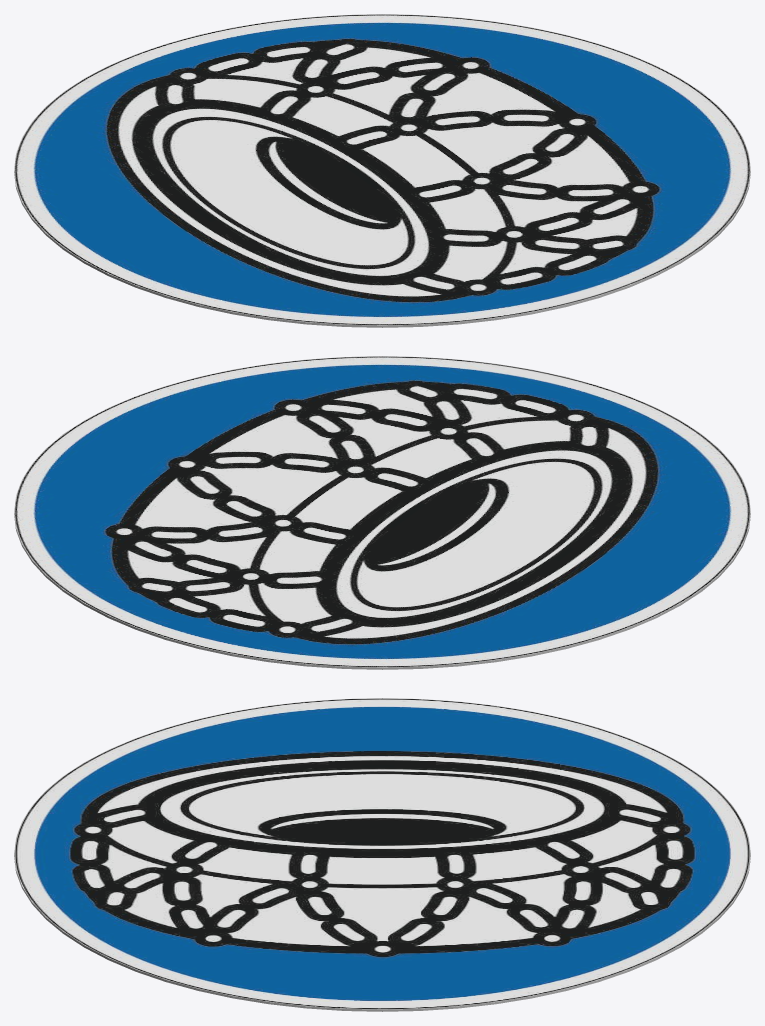
The picture shows the model from 3 angles, top to bottom: view 1: azimuth 30°, elevation 25°; view 2: azimuth 150°, elevation 25°; view 3: azimuth 270°, elevation 25°; orthographic projection.
Parts seen in each view (by area): view 1: Circle_Schild_Rund; view 2: Circle_Schild_Rund; view 3: Circle_Schild_Rund.
Part boxes in pixels (x1,y1,x2,y2): Circle_Schild_Rund: [14, 14, 750, 327]; Circle_Schild_Rund: [14, 356, 750, 669]; Circle_Schild_Rund: [14, 698, 750, 1011].
Size of the model in its own units: 0.6 by 0.002 by 0.6.
2 materials, 1 textured.
